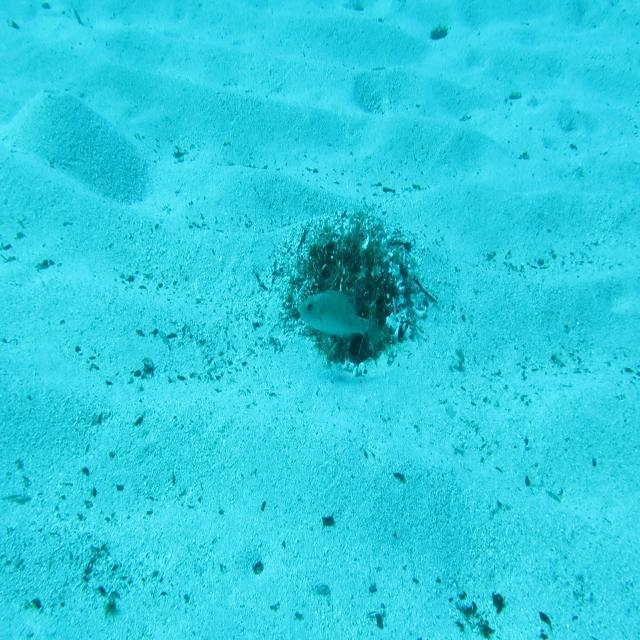MAN: (296, 287, 382, 345)
core_nest: (334, 255, 377, 282)
nest: (282, 214, 424, 372)
